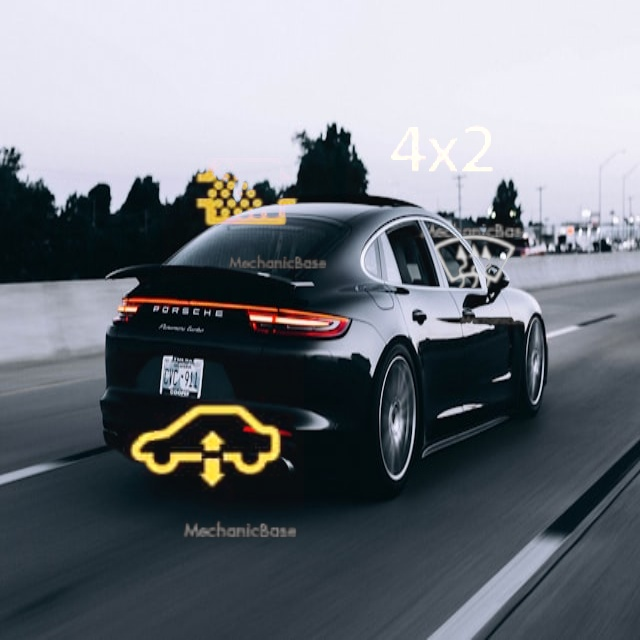symbol: (107, 350, 304, 547), (346, 55, 538, 247), (162, 106, 333, 277), (408, 197, 542, 331)
